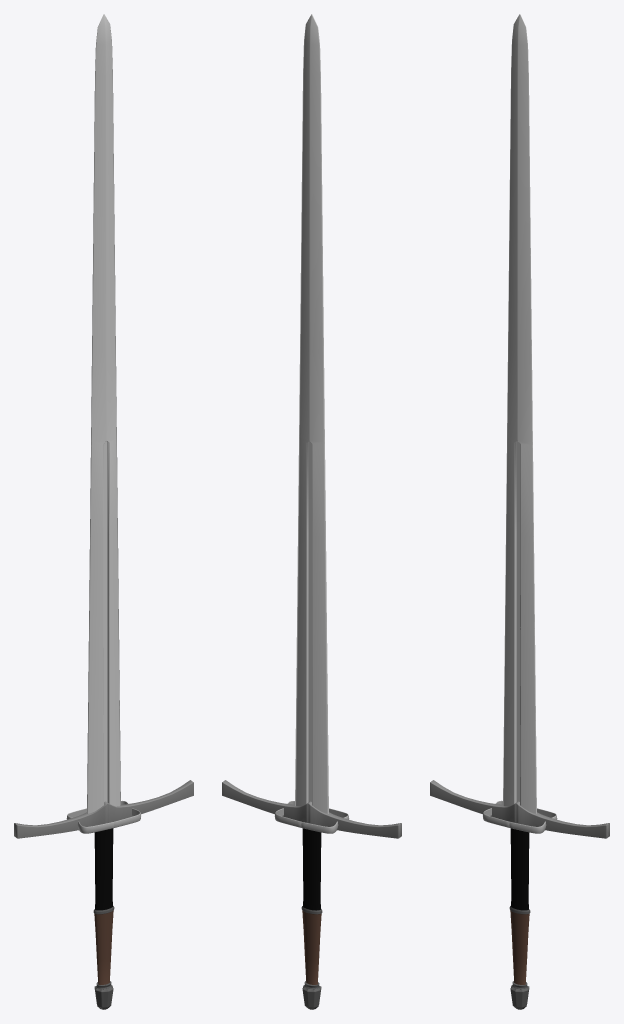
The model's file is Claymore.fbx.
The picture shows the model from 3 angles, left to right: view 1: azimuth 30°, elevation 25°; view 2: azimuth 150°, elevation 25°; view 3: azimuth 330°, elevation 25°; orthographic projection.
Visible parts, largest first — view 1: Claymore_LOD0; view 2: Claymore_LOD0; view 3: Claymore_LOD0.
Part boxes in pixels (box(x1,y1,x2,y2)): Claymore_LOD0: box(14, 14, 193, 1009); Claymore_LOD0: box(222, 14, 401, 1009); Claymore_LOD0: box(430, 14, 609, 1009).
Size of what is drawn, in the model's own units: 178 by 960 by 37.69.
